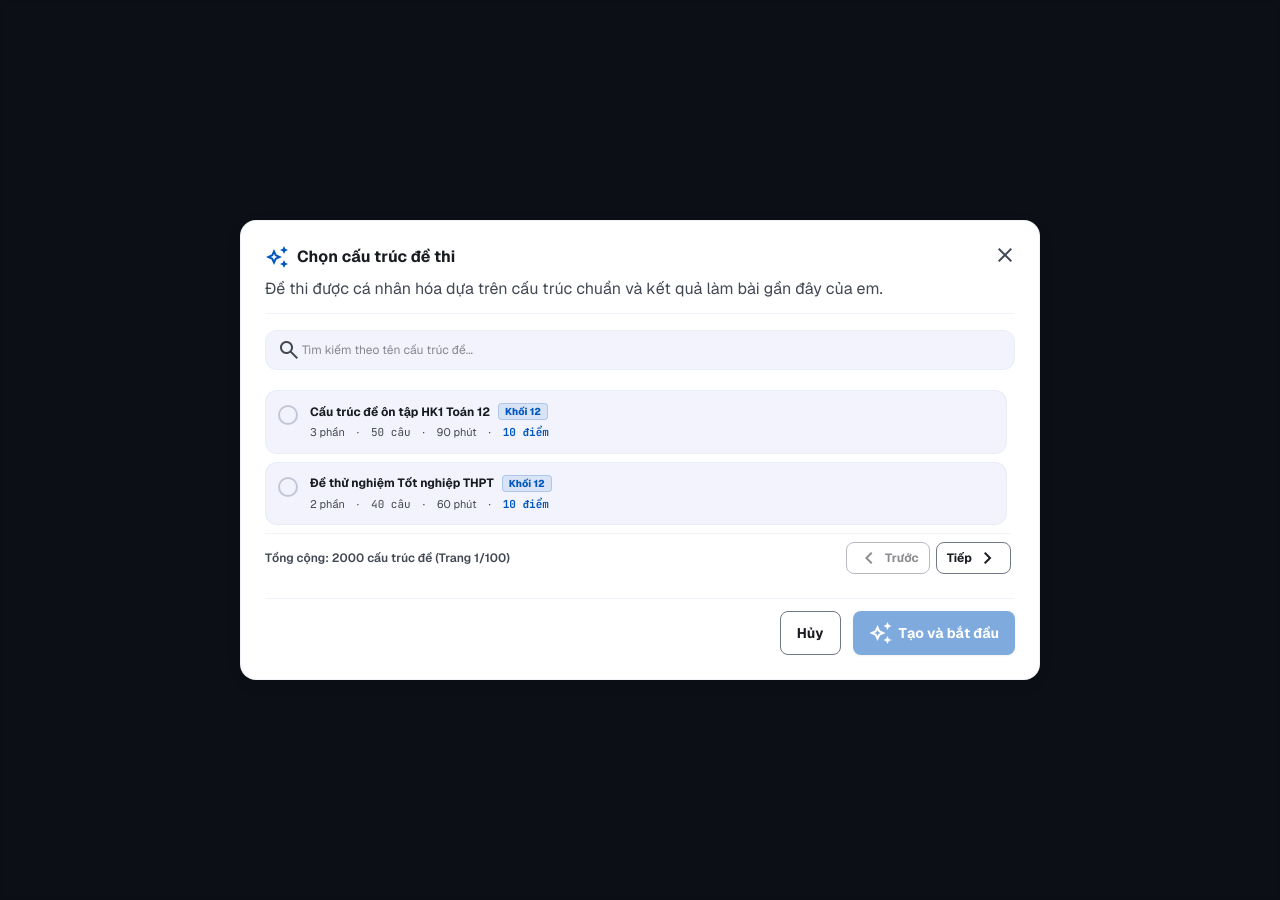
Test: AdaptiveBlueprintExamDialog - Task 8 Scaled Discovery & Pagination › renders large catalog metadata (e.g. 2,000 items) and navigates pages
Expected: the text "Tổng cộng: 2000 cấu trúc đề (Trang 1/100)" is shown, [265,550,510,566]
Expected: the button "Trước" is disabled, [846,542,930,574]
Click the button "Tiếp" at (973, 558), box [936,542,1011,574]
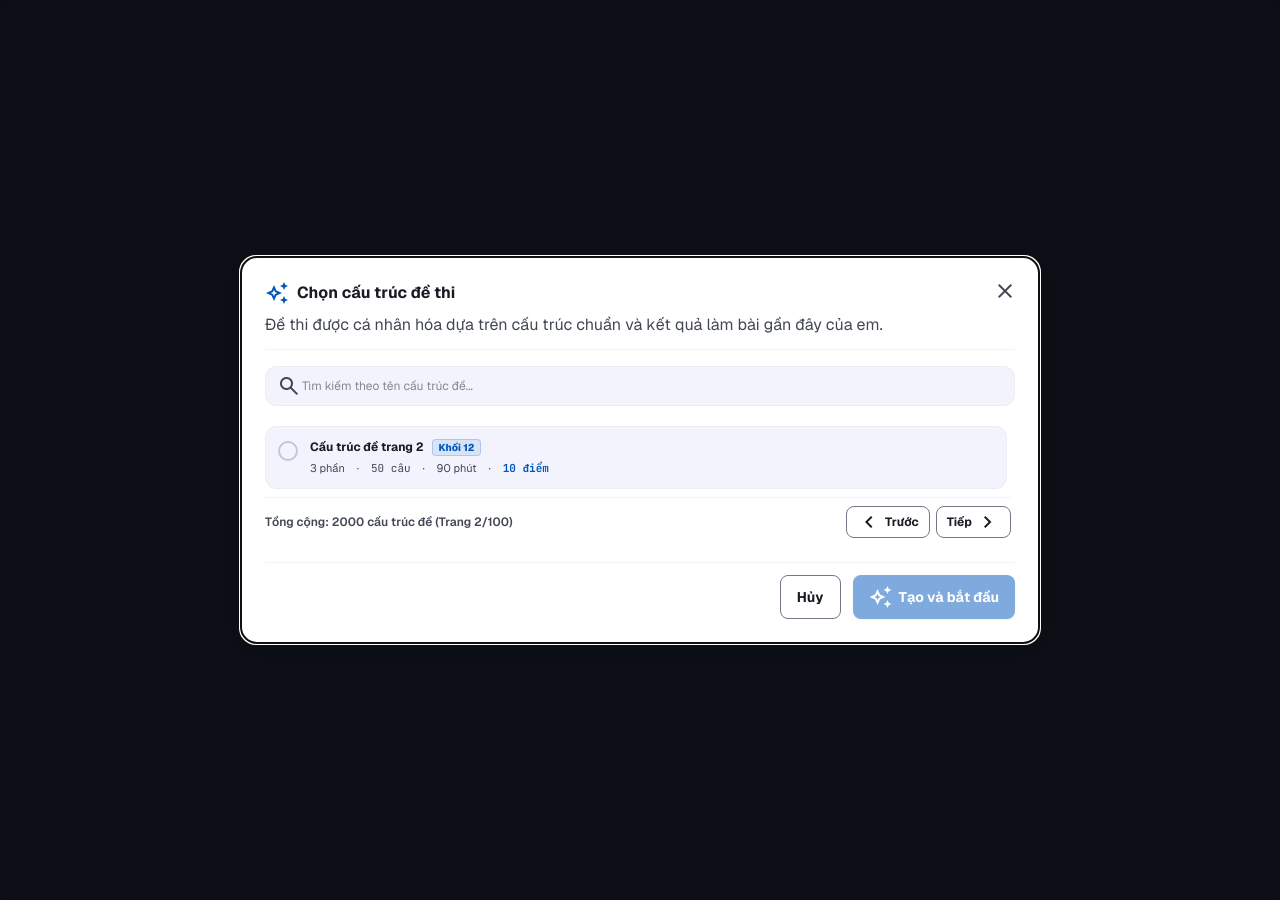
Expected: the text "Cấu trúc đề trang 2" is shown, [310,439,424,455]
Expected: the text "Tổng cộng: 2000 cấu trúc đề (Trang 2/100)" is shown, [265,514,513,530]
